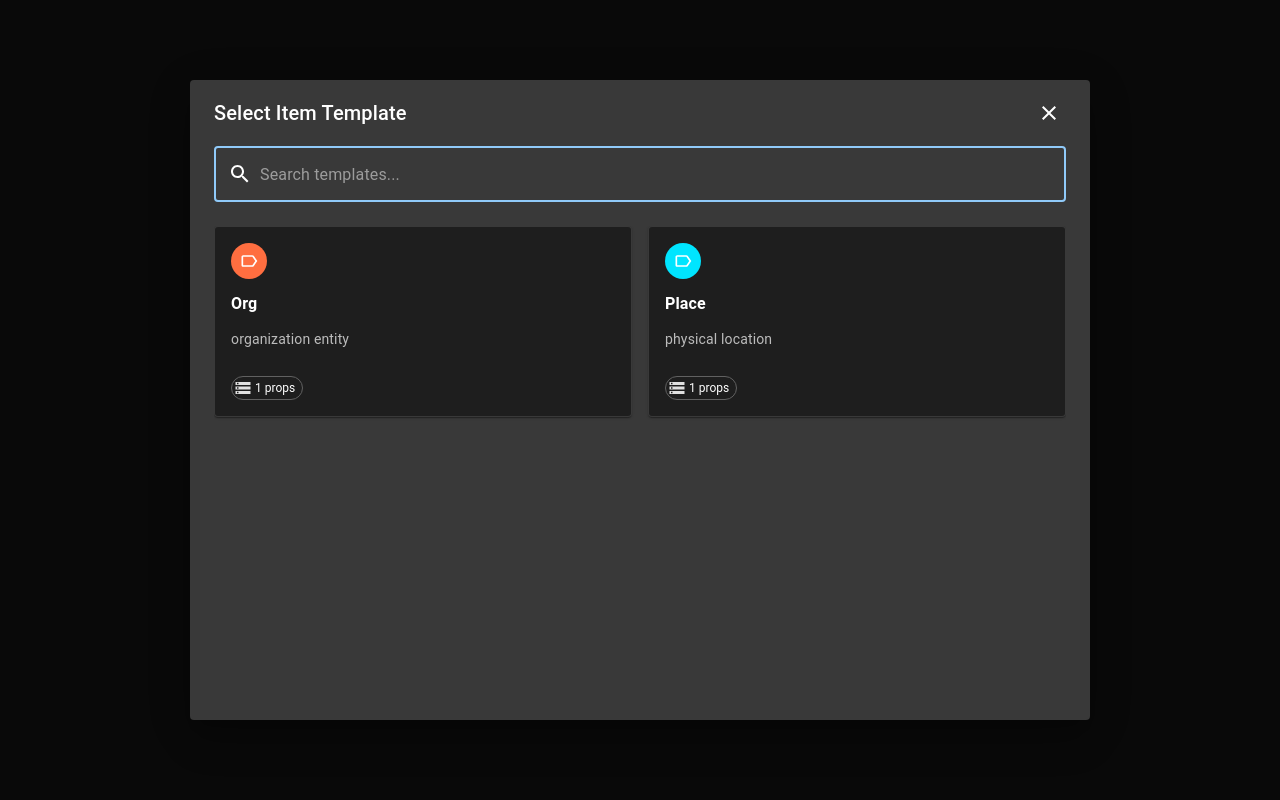
Scenario: TemplateSelectionModal › filters templates by description as user types
This screenshot has width=1280, height=800.
expect the text "Org" is shown: met, box x1=231 y1=294 x2=257 y2=313
In the field with placeholder "Search templates...": (663, 174) x1=260 y1=146 x2=1066 y2=202, type "location"
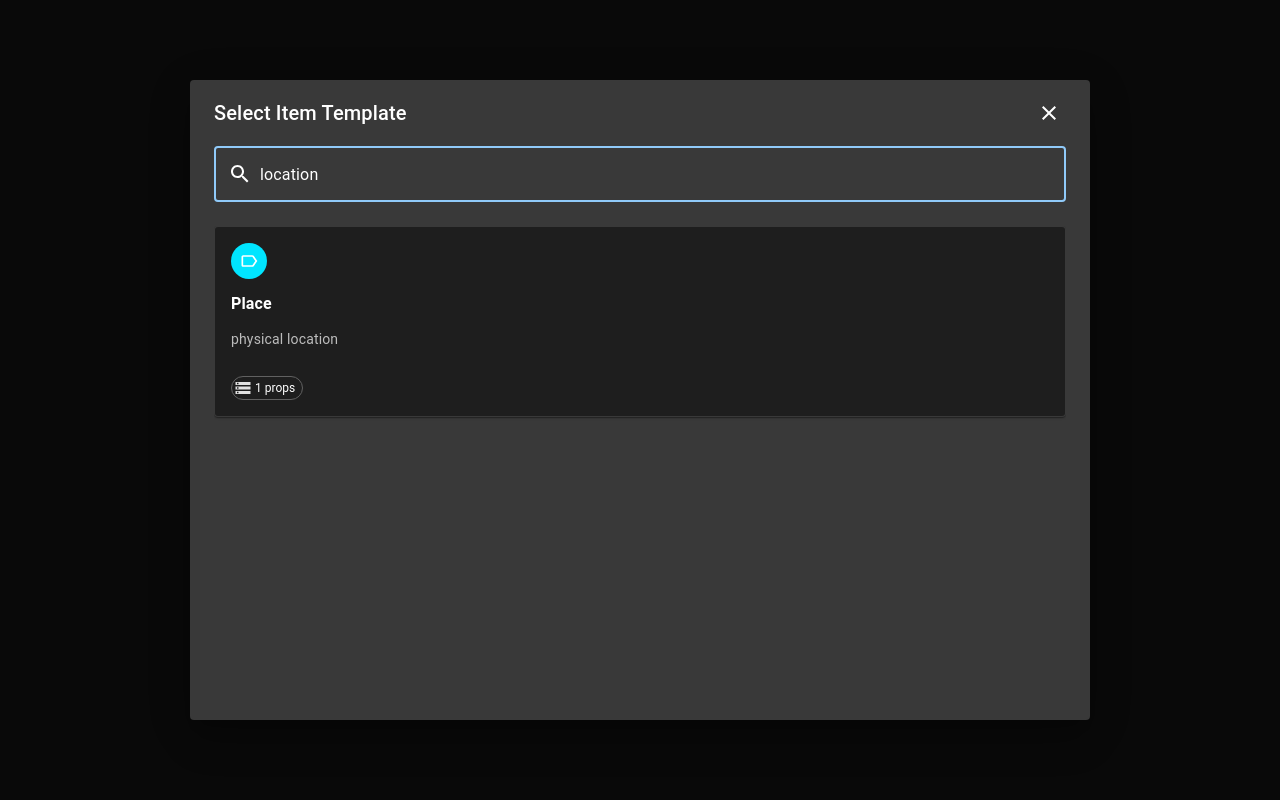
expect the text "Place" is shown: met, box x1=231 y1=294 x2=272 y2=313
expect the button "Org" is gone: met
